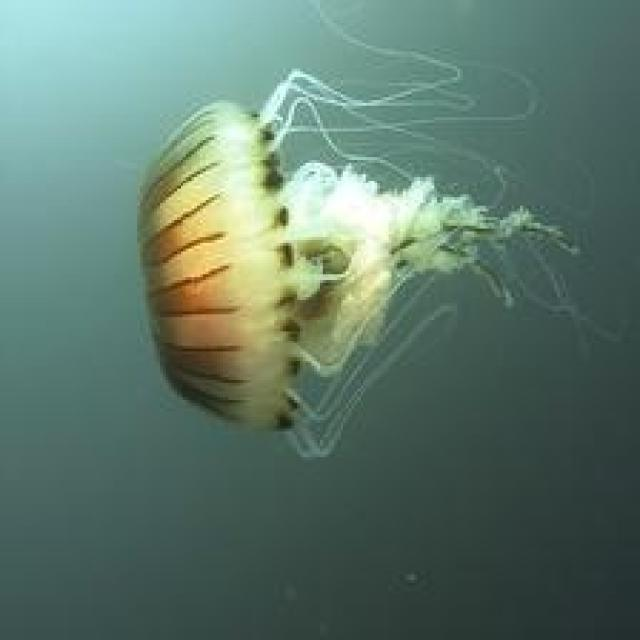Box-jellyfish: (131, 0, 620, 460)
